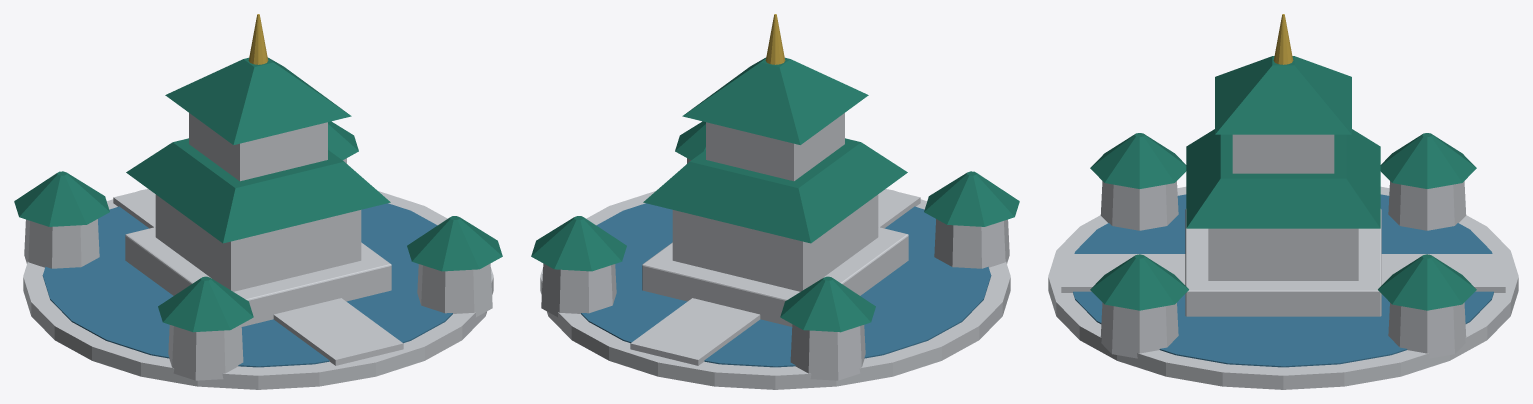
Rendered from lunar-capital.glb.
The picture shows the model from 3 angles, left to right: view 1: azimuth 30°, elevation 25°; view 2: azimuth 150°, elevation 25°; view 3: azimuth 270°, elevation 25°; orthographic projection.
Visible parts, largest first — view 1: lunar-capital_Opaque; view 2: lunar-capital_Opaque; view 3: lunar-capital_Opaque.
Boxes of the visible parts, x1,y1,x2,y2 form: lunar-capital_Opaque: [14, 14, 502, 389]; lunar-capital_Opaque: [531, 14, 1019, 389]; lunar-capital_Opaque: [1048, 14, 1518, 389].
Size of the model in its own units: 36 by 23.3 by 36.
